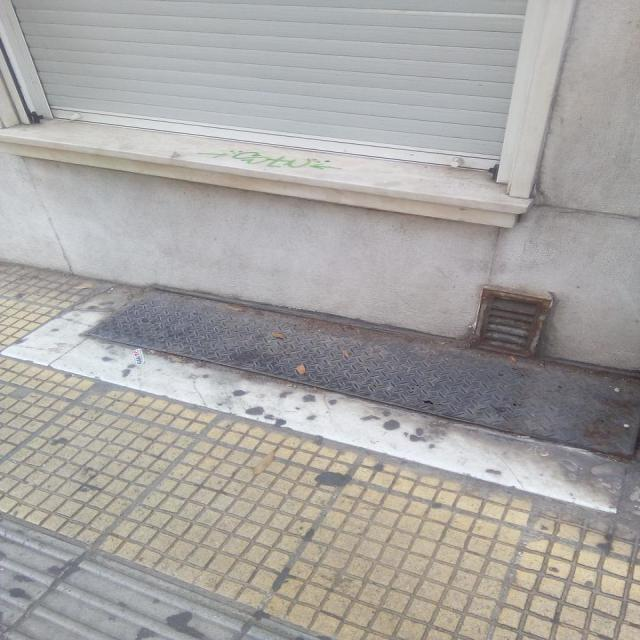nonspitting: (195, 147, 338, 172)
